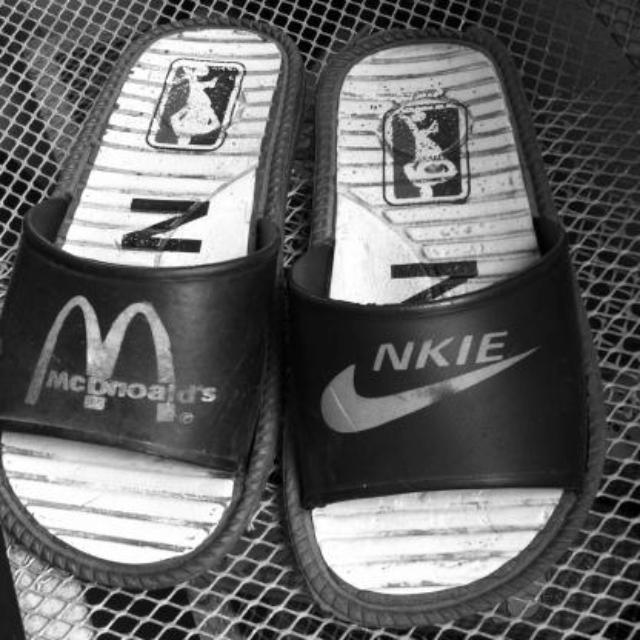NIKE_fake: (308, 322, 548, 448)
